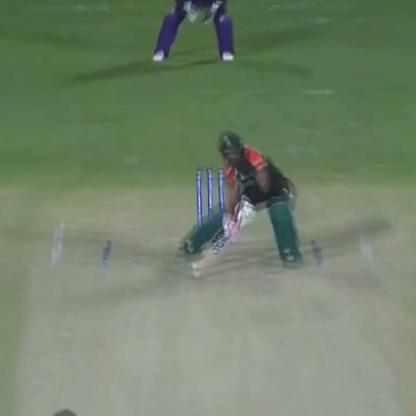ball: (187, 265, 207, 280), (185, 261, 202, 270)
bat: (196, 208, 244, 270)
pitch: (10, 223, 415, 416)
